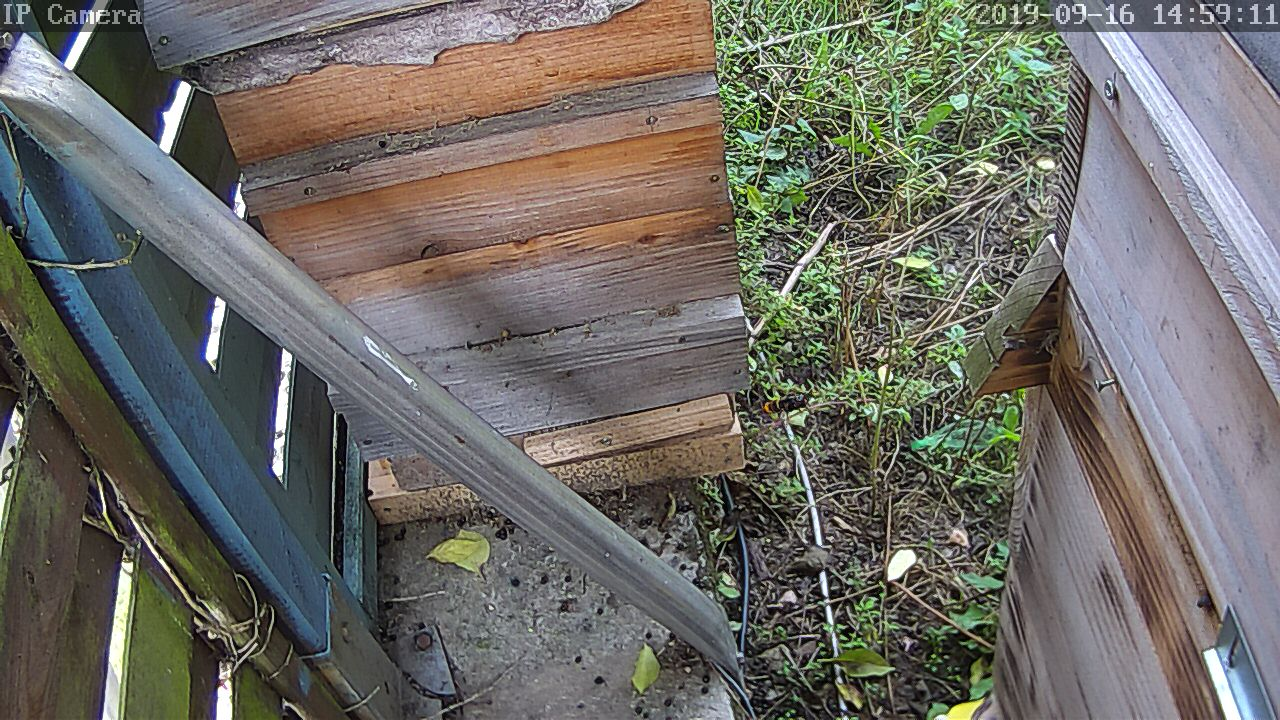hornet: (731, 383, 791, 424)
